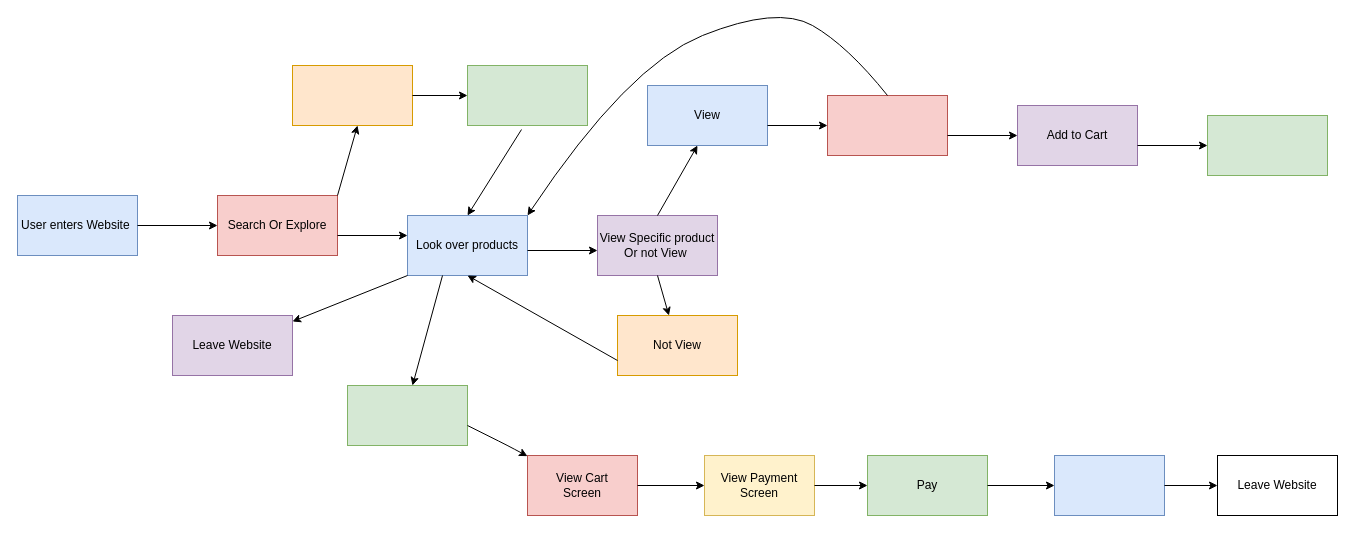
Some shapes in this 1355 by 533 pixel diagram are drawn without their labels. Here are the shapes that lost their labels. From the top down, the centre of each, then its label:
At [352,95]: "Search".
At [527,95]: "Input Product".
At [887,125]: "Product Webpage".
At [1267,145]: "Add to Cart Confirmation".
At [407,415]: "Checkout".
At [1109,485]: "Order Confirmation Recieve Email".
